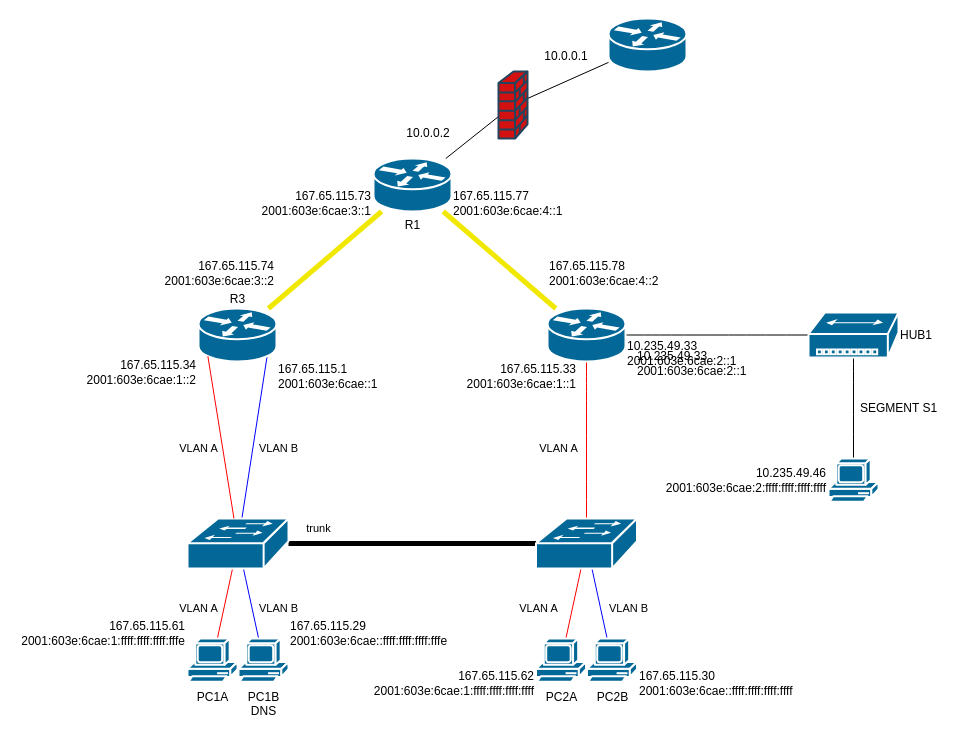
Some shapes in this 954 by 736 pixel diagram are drawn without their labels. The shapes that lost their labels are listed below. From the top down, each one's centre as x and y in pixels, then its label:
(x=647, y=44): ISP
(x=586, y=334): R2
(x=853, y=480): PC3
